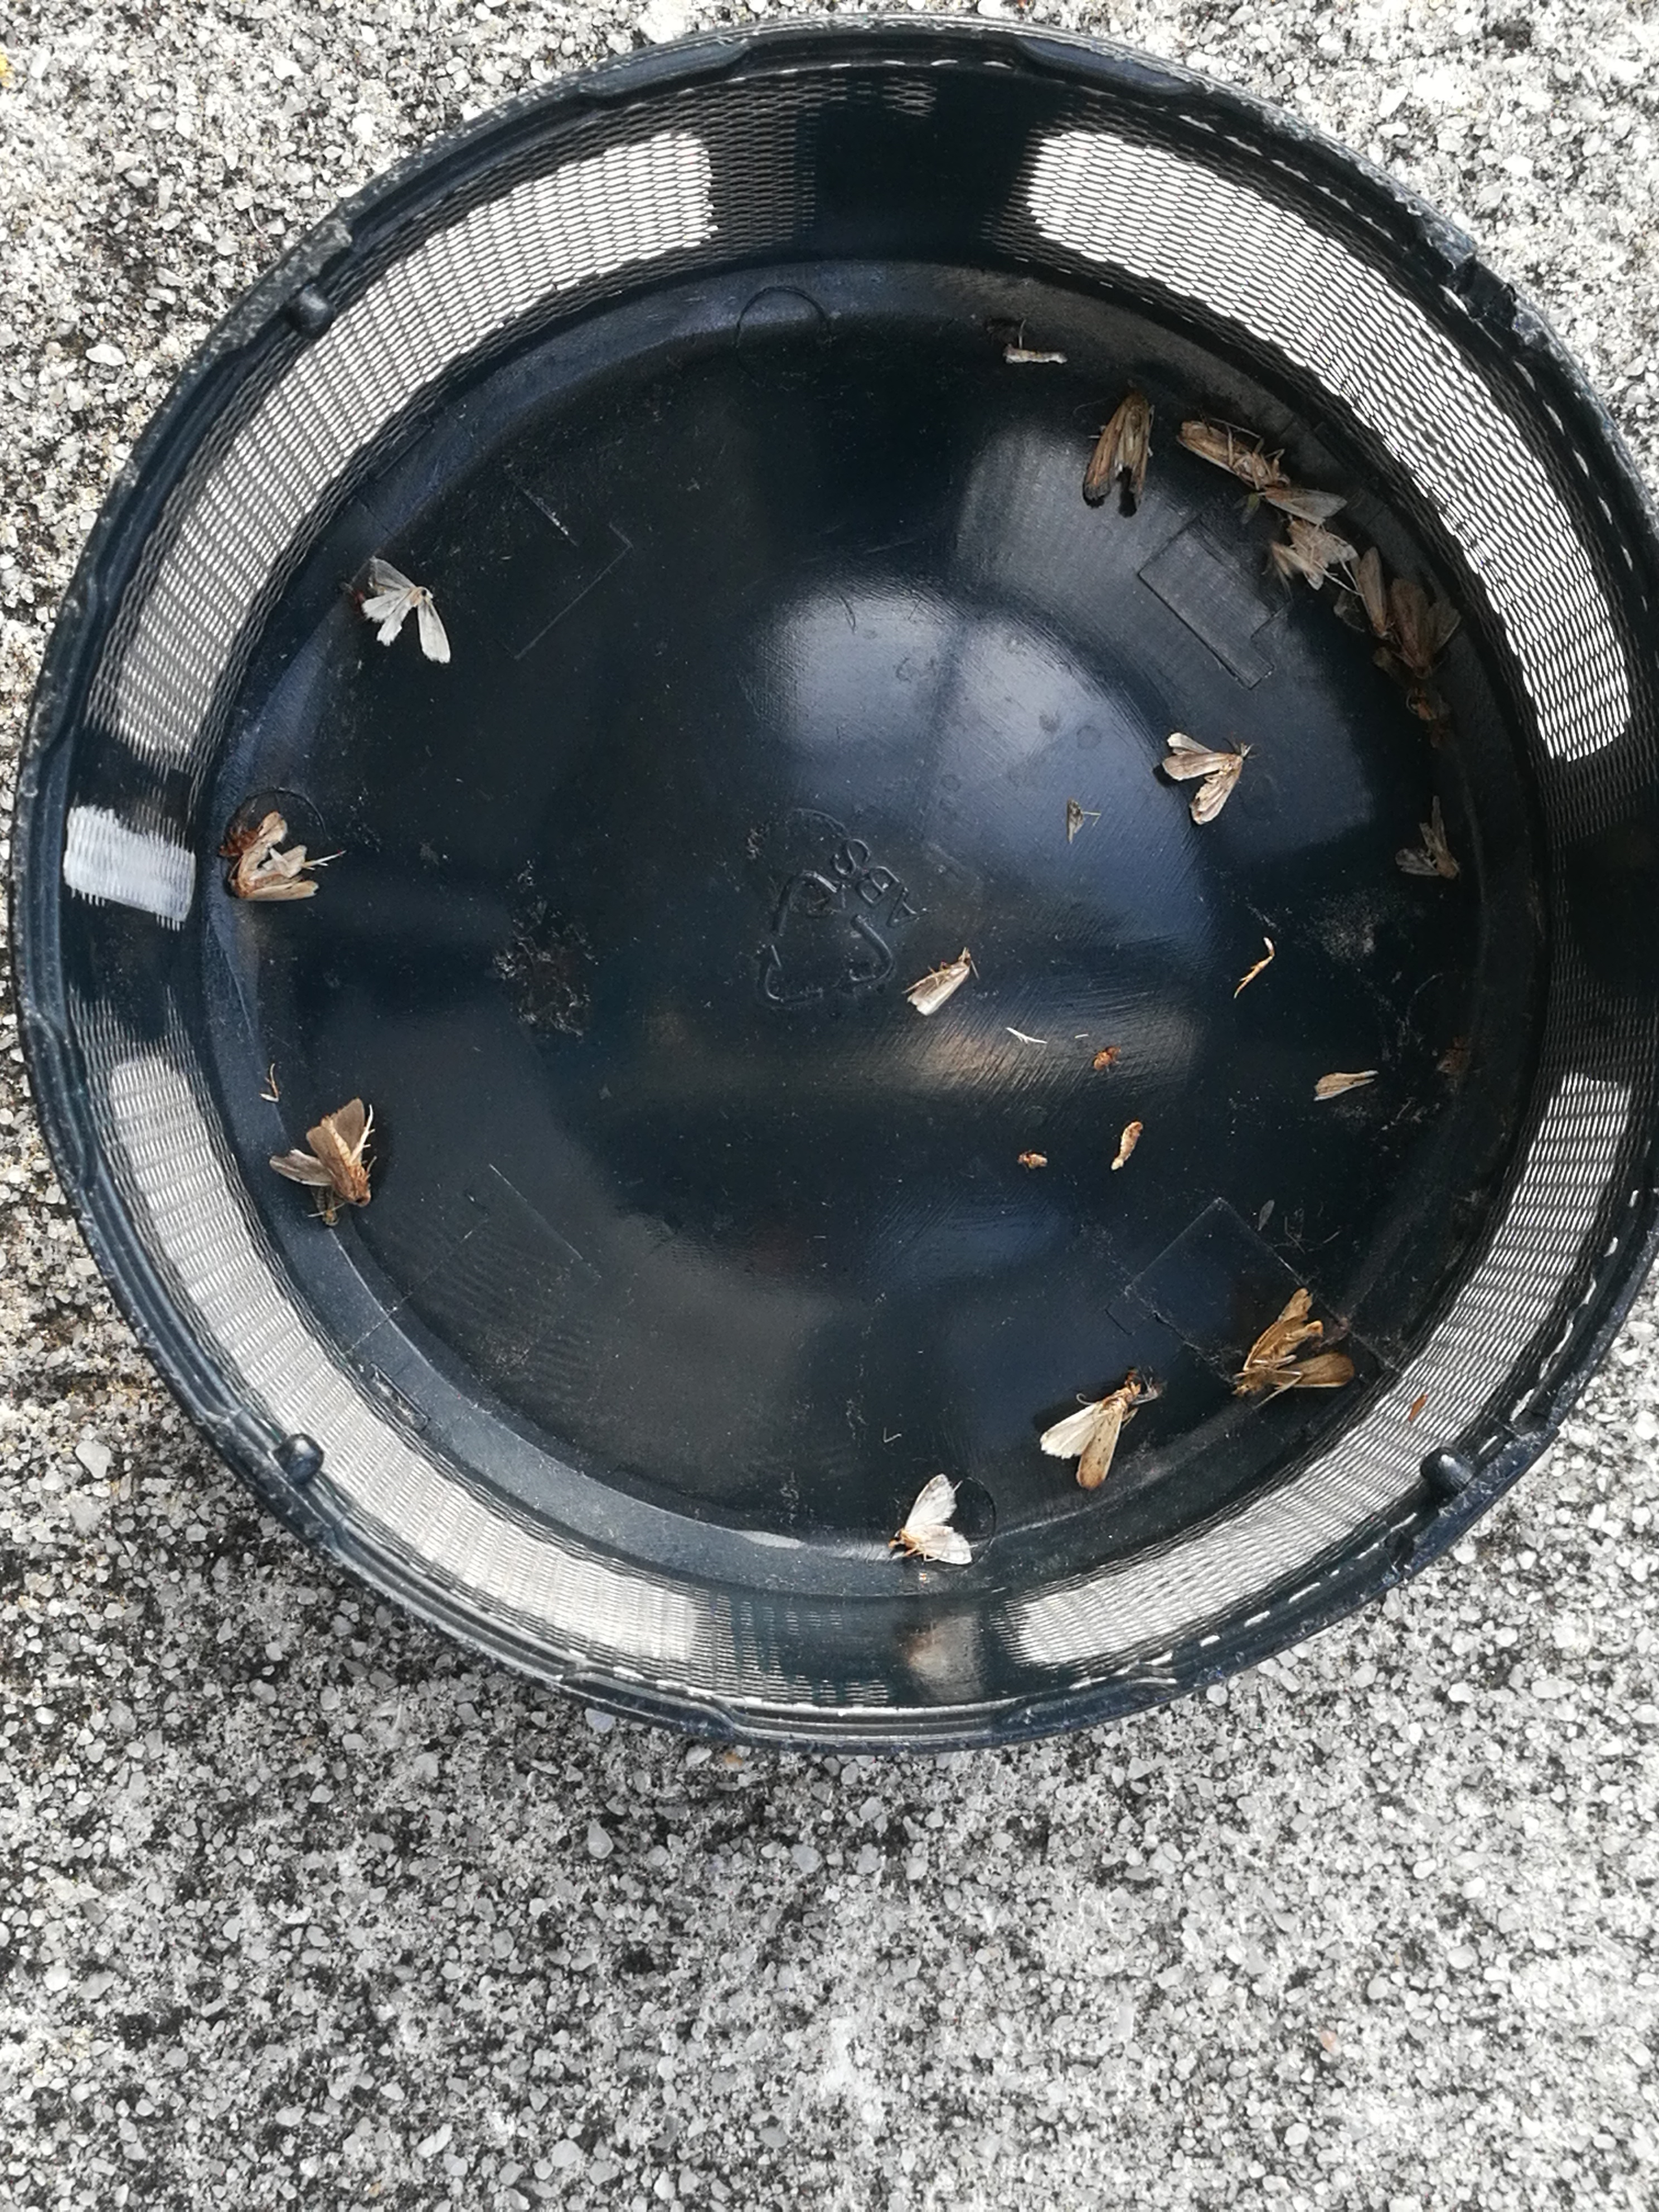mosquito: (1178, 418, 1286, 488), (1358, 549, 1387, 636)
moth: (1040, 1381, 1141, 1487), (270, 1099, 369, 1207), (1234, 1310, 1349, 1395), (361, 559, 450, 662), (1084, 385, 1152, 502), (225, 813, 315, 900), (896, 1474, 972, 1566), (1394, 580, 1459, 676), (1161, 754, 1248, 822), (1396, 798, 1460, 880), (1288, 521, 1354, 590), (910, 949, 972, 1014), (1263, 484, 1347, 523)
